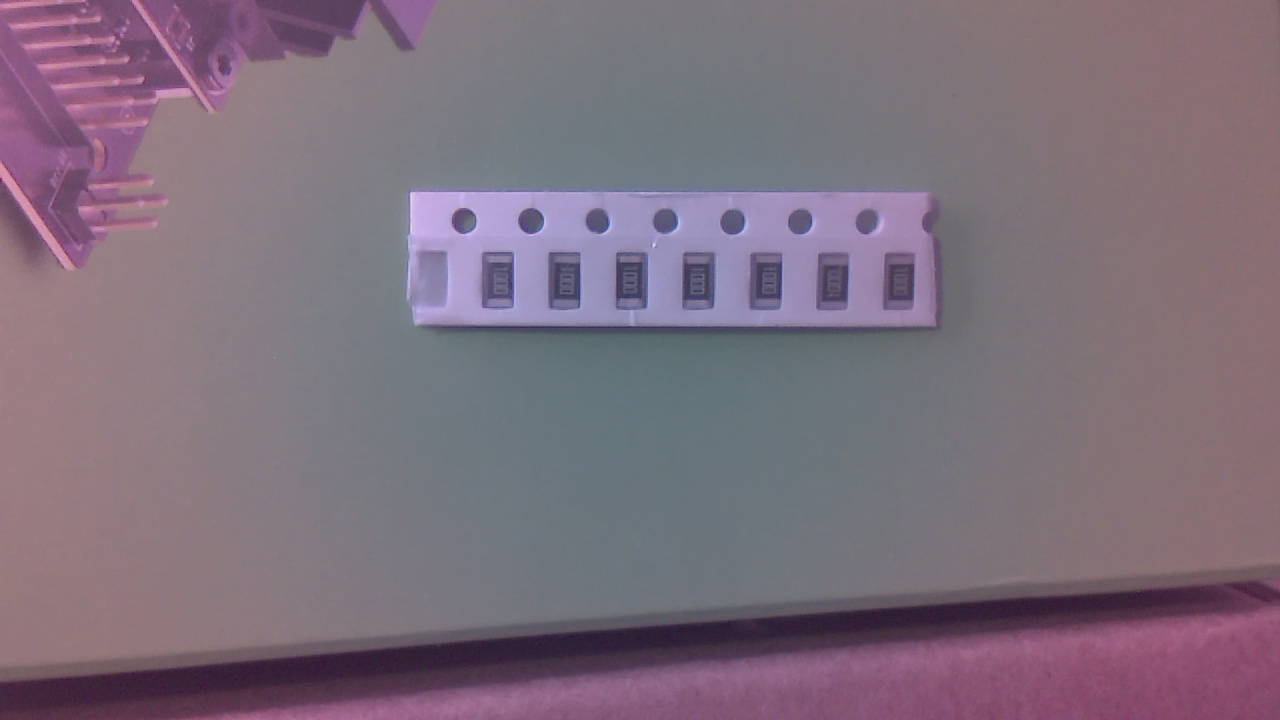Resistor: (754, 255, 789, 313), (688, 256, 720, 318), (487, 257, 521, 314), (823, 257, 855, 317), (622, 257, 654, 316), (554, 257, 586, 314), (890, 257, 920, 317)
